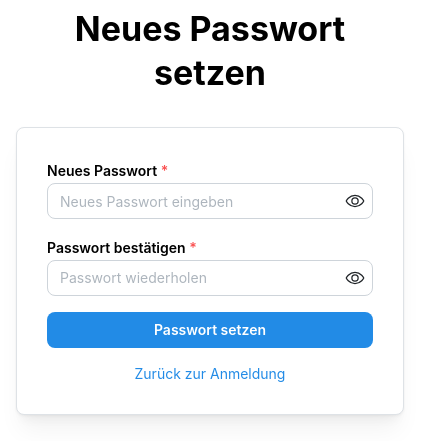
Scenario: SetPassword › submits the new password with the token and shows success
Type "password123" into the password field labelled "Neues Passwort *" at (210, 201), box 48,184 -> 372,218
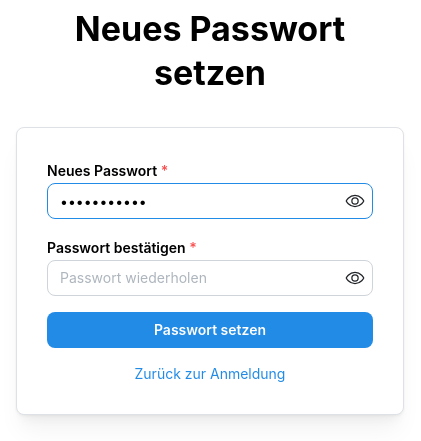
Type "password123" into the password field labelled "Passwort bestätigen *" at (210, 278), box 48,261 -> 372,295
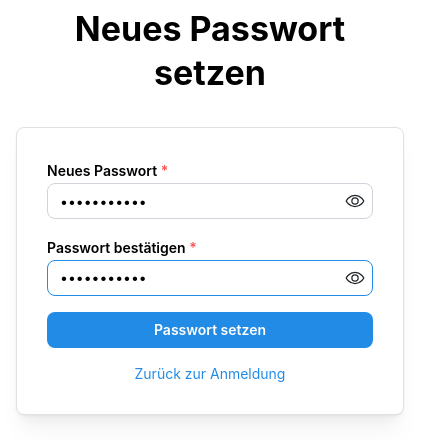
Click the button "Passwort setzen" at (210, 330), box 47,312 -> 373,348
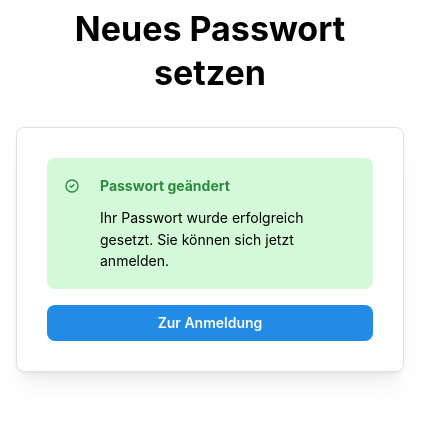
Expected: the text "Passwort geändert" is shown, 100,175 -> 230,197
